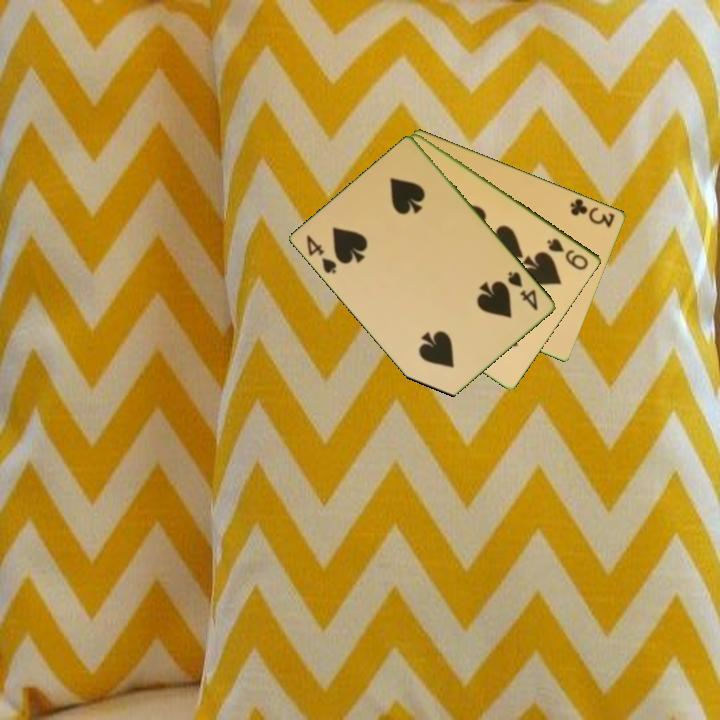3c: (567, 195, 618, 231)
4s: (303, 231, 340, 277), (504, 268, 541, 313)
9s: (544, 234, 592, 273)
